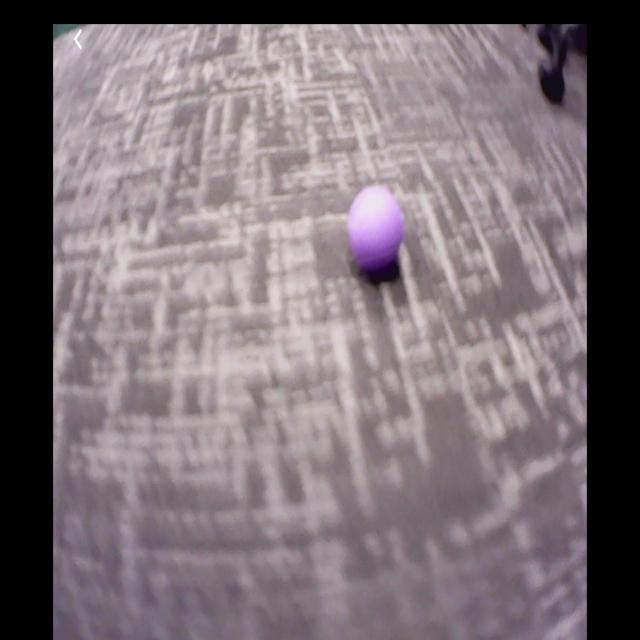ball: (348, 187, 402, 265)
